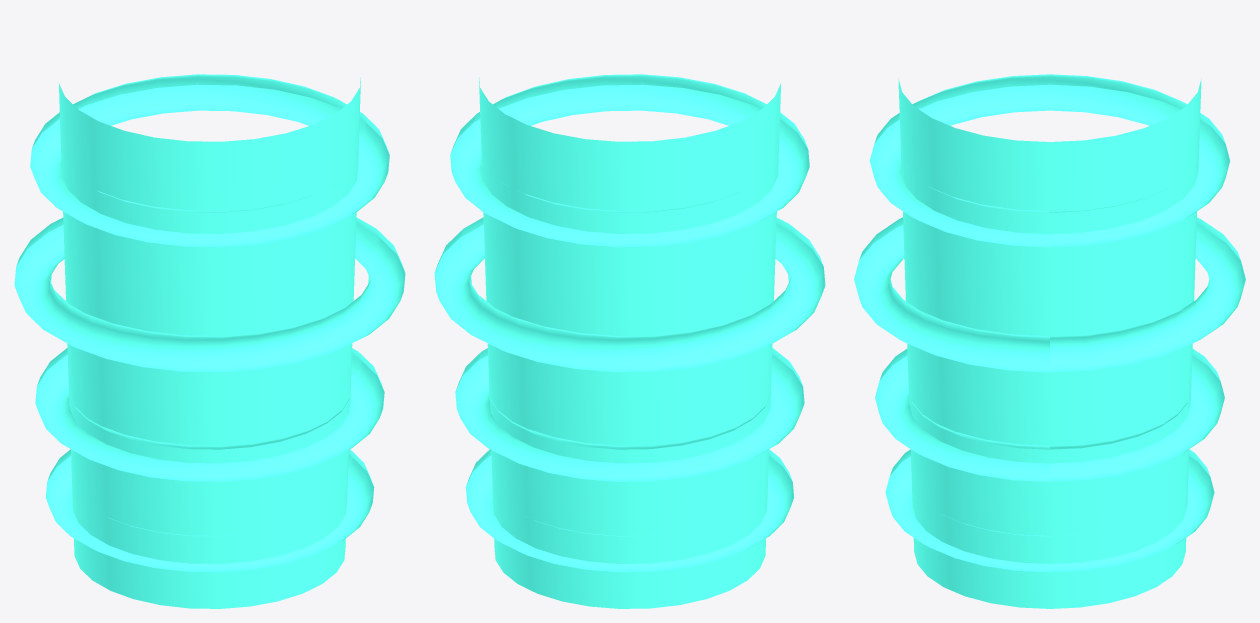
Rendered from larynx.glb.
3 views of the same model, side by side, from view 1: azimuth 30°, elevation 25°; view 2: azimuth 150°, elevation 25°; view 3: azimuth 270°, elevation 25° (orthographic).
Visible parts, largest first — view 1: Larynx; view 2: Larynx; view 3: Larynx.
Part boxes in pixels (bbox=[...]): Larynx: bbox=[14, 74, 405, 608]; Larynx: bbox=[434, 74, 825, 608]; Larynx: bbox=[854, 74, 1245, 608].
Bounding box in the file's own units: 1.5 × 2 × 1.5.
